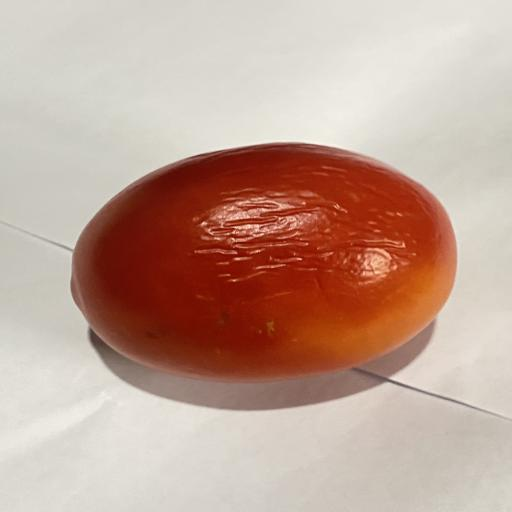spoiled: (71, 143, 457, 382)
